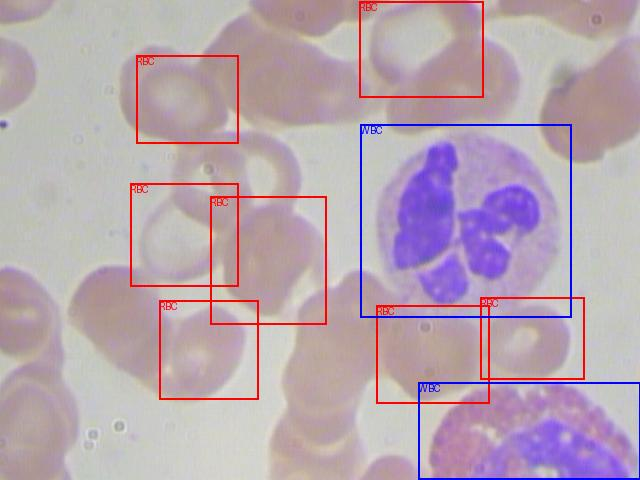RBC: (210, 196, 326, 324), (359, 1, 483, 97), (130, 183, 238, 286), (376, 305, 489, 403), (159, 300, 258, 399), (136, 55, 238, 143), (480, 297, 584, 379)
WBC: (360, 124, 571, 317), (418, 382, 640, 479)
